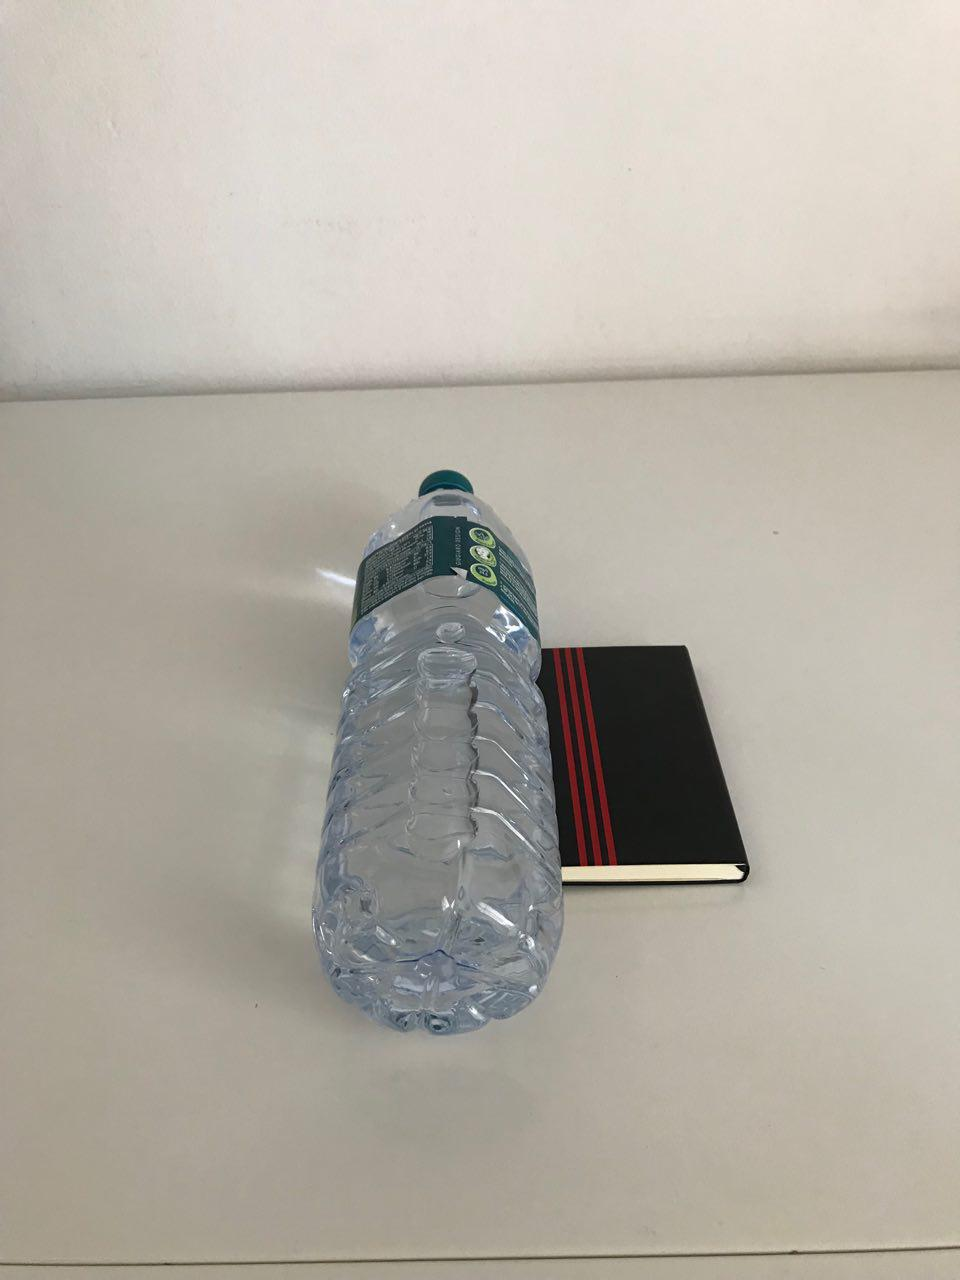san_bernardo: (310, 467, 566, 1036)
